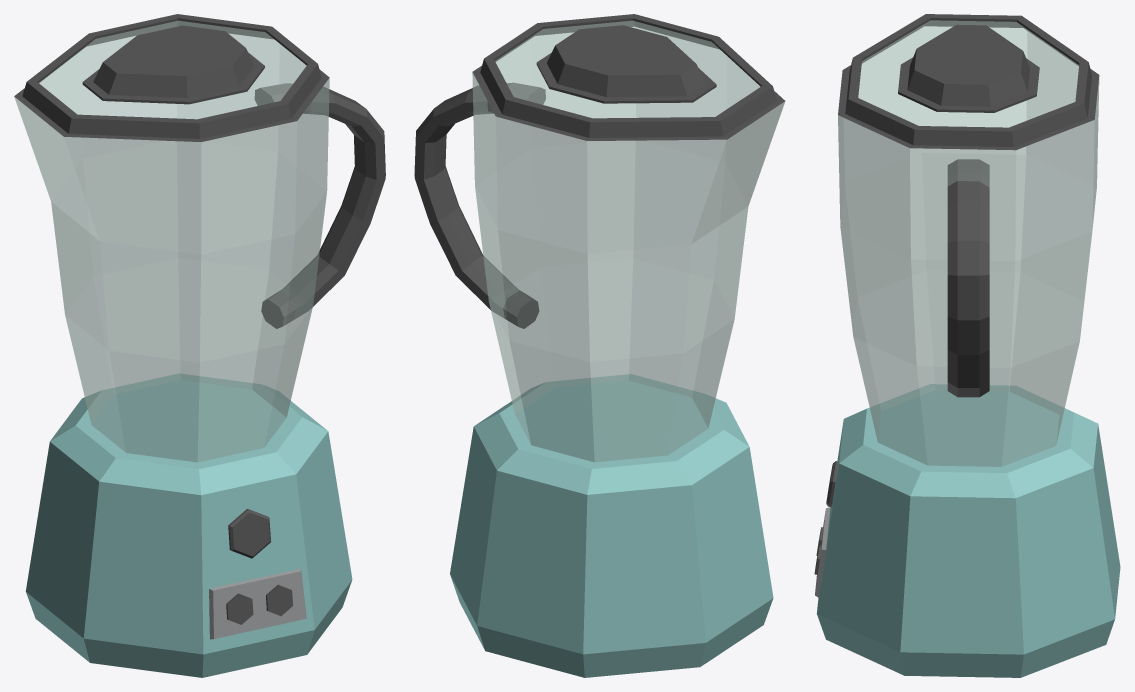
The model's file is licuadora.fbx.
The picture shows the model from 3 angles, left to right: view 1: azimuth 30°, elevation 25°; view 2: azimuth 150°, elevation 25°; view 3: azimuth 270°, elevation 25°; orthographic projection.
Parts seen in each view (by area): view 1: Cylinder, NurbsPath, Cylinder.003, Cylinder.001, Cylinder.002; view 2: Cylinder, NurbsPath; view 3: Cylinder, NurbsPath.
Boxes of the visible parts, x1=… form: Cylinder: x1=14, y1=14, x2=352, y2=677; NurbsPath: x1=254, y1=83, x2=385, y2=328; Cylinder.003: x1=228, y1=509, x2=271, y2=558; Cylinder.001: x1=226, y1=593, x2=253, y2=624; Cylinder.002: x1=266, y1=585, x2=293, y2=615; Cylinder: x1=450, y1=14, x2=785, y2=677; NurbsPath: x1=414, y1=82, x2=545, y2=328; Cylinder: x1=815, y1=14, x2=1120, y2=677; NurbsPath: x1=947, y1=159, x2=989, y2=397.
Size of the model in its own units: 0.5247 by 0.8292 by 0.4142.
